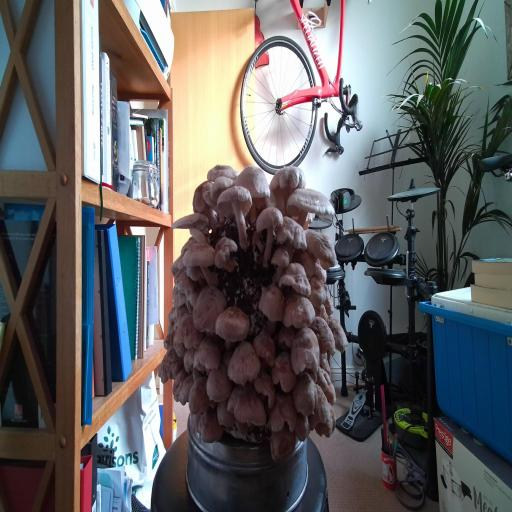Shiitake Mushroom: (223, 150, 283, 225), (169, 229, 237, 292), (214, 332, 273, 402), (260, 208, 323, 273), (181, 273, 236, 347), (275, 175, 344, 233), (242, 194, 290, 270), (211, 176, 256, 250), (248, 274, 299, 339), (283, 366, 328, 425), (292, 226, 348, 272), (302, 309, 345, 365), (244, 323, 288, 375), (190, 401, 231, 456), (164, 204, 217, 246), (271, 256, 321, 300), (149, 341, 191, 393), (226, 379, 269, 428), (265, 347, 302, 402), (246, 364, 287, 411), (189, 179, 221, 238), (165, 261, 207, 305), (260, 239, 298, 286), (201, 164, 241, 207), (307, 404, 347, 447), (310, 362, 344, 410), (266, 420, 301, 466), (286, 242, 325, 282), (203, 360, 236, 407), (290, 326, 321, 375), (215, 305, 251, 343), (305, 381, 333, 429), (161, 294, 196, 332), (325, 309, 352, 357), (173, 312, 205, 352), (283, 292, 316, 329), (212, 233, 241, 275), (185, 374, 212, 419), (193, 335, 222, 376), (269, 392, 297, 432), (167, 363, 193, 404), (175, 369, 197, 409), (214, 396, 237, 434), (293, 411, 313, 445), (206, 162, 240, 182), (308, 275, 328, 308), (167, 284, 189, 314), (308, 259, 334, 284), (165, 253, 191, 277), (312, 299, 332, 330), (277, 321, 297, 350), (177, 234, 200, 258), (181, 344, 196, 374), (184, 264, 207, 283), (317, 350, 332, 379), (162, 320, 176, 351), (321, 291, 336, 318), (184, 285, 200, 309)
